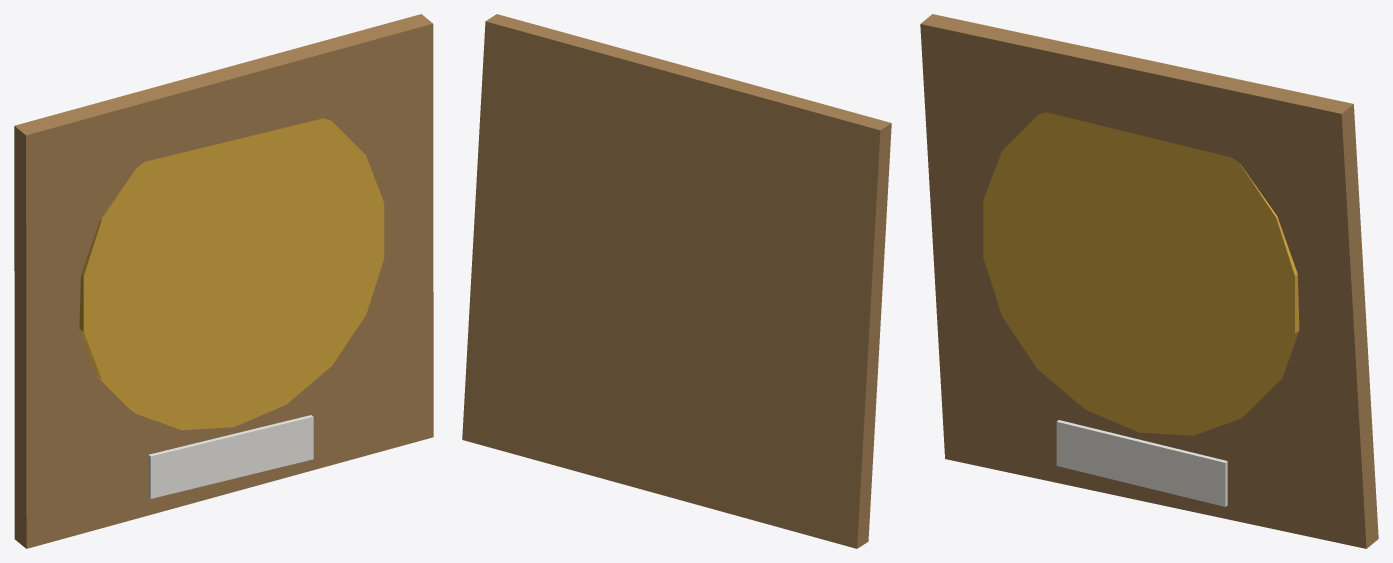
File: cardboard_gold.glb
3 renders of one model, left to right at view 1: azimuth 30°, elevation 25°; view 2: azimuth 150°, elevation 25°; view 3: azimuth 330°, elevation 25°, orthographic. The views are drawn at different scales.
Parts seen in each view (by area): view 1: frame_cardboard, disc_gold, plate_white; view 2: frame_cardboard; view 3: frame_cardboard, disc_gold, plate_white.
Boxes of the visible parts, x1,y1,x2,y2 form: frame_cardboard: (14,14,433,548); disc_gold: (79,118,384,430); plate_white: (148,415,313,498); frame_cardboard: (462,14,891,548); frame_cardboard: (920,14,1378,548); disc_gold: (983,112,1299,435); plate_white: (1056,420,1227,506).
Bounding box in the file's own units: 0.4118 × 0.4123 × 0.0406.
